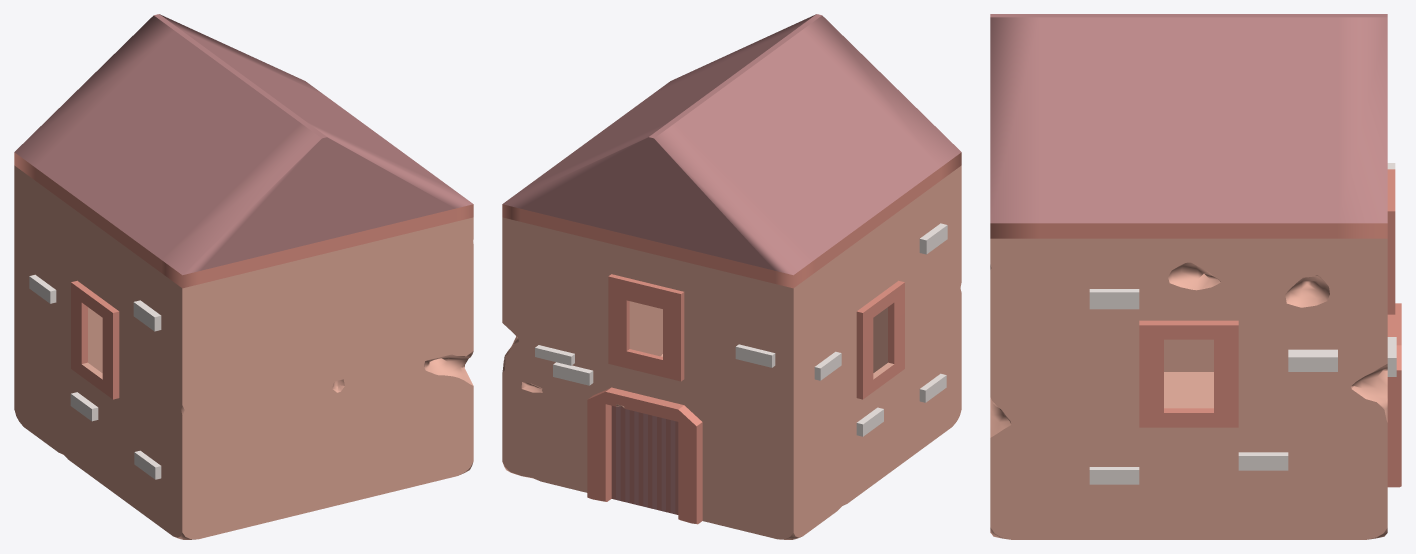
The model's file is casaRoja.fbx.
3 views of the same model, side by side, from view 1: azimuth 30°, elevation 25°; view 2: azimuth 150°, elevation 25°; view 3: azimuth 270°, elevation 25° (orthographic). The views are drawn at different scales.
Visible parts, largest first — view 1: Cube_dmg; view 2: Cube_dmg; view 3: Cube_dmg.
Boxes of the visible parts, <box> form: Cube_dmg: <box>14,14,473,539</box>; Cube_dmg: <box>502,14,961,539</box>; Cube_dmg: <box>990,14,1401,539</box>.
Size of the model in its own units: 214 by 243 by 207.
